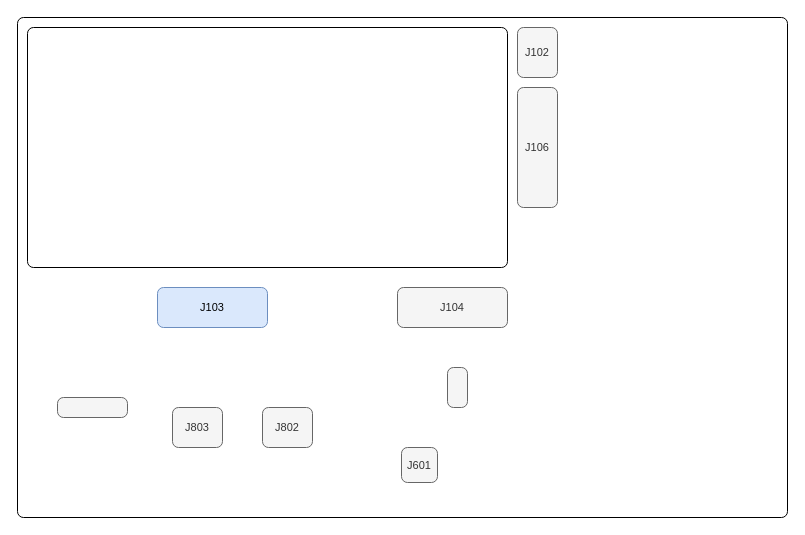
This 805x535 diagram has some shape labels left out. The shapes that lost their labels are listed below. From the top down, each one's box as (x1, y1, x2, y2) in pixels, then its label:
(26, 26, 508, 268): Development Board STM32F469I-Disco / Nucleo-H755
(56, 396, 128, 418): J303
(446, 366, 468, 408): J604
